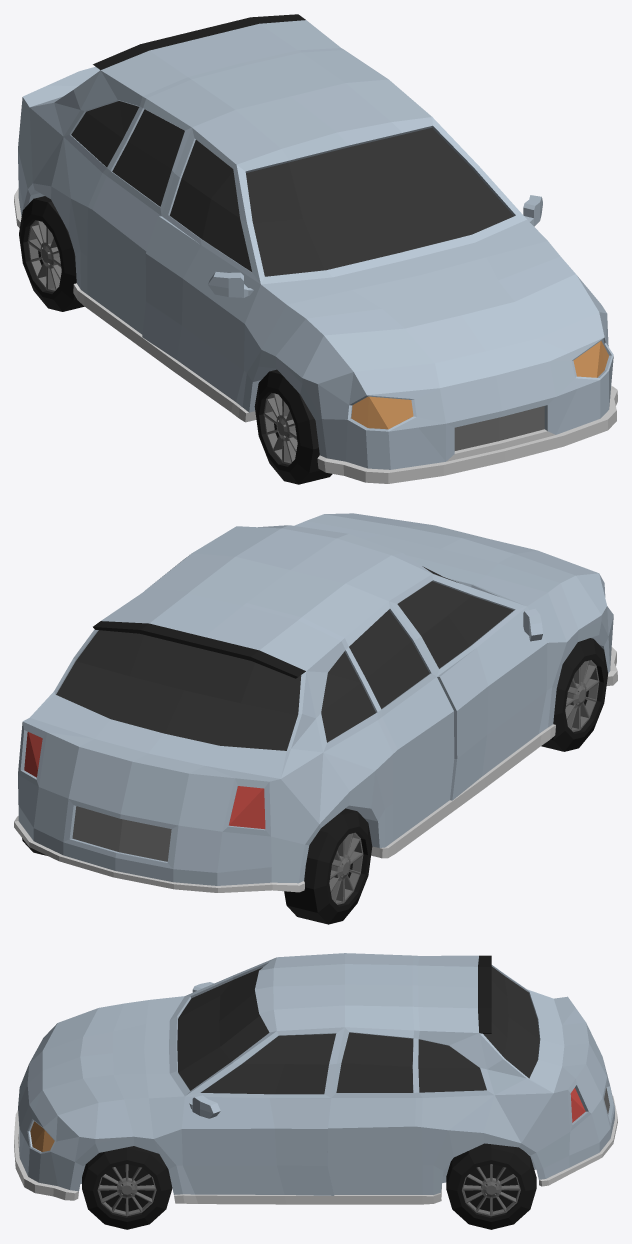
Rendered from hatch.glb.
3 views of the same model, one above another, from view 1: azimuth 30°, elevation 25°; view 2: azimuth 150°, elevation 25°; view 3: azimuth 270°, elevation 25° (orthographic). The views are drawn at different scales.
Parts seen in each view (by area): view 1: NormalCar2_Cube.002, NormalCar2_FrontRightWheel_Cylinder.016, NormalCar2_BackWheels_Cylinder.003; view 2: NormalCar2_Cube.002, NormalCar2_BackWheels_Cylinder.003, NormalCar2_FrontRightWheel_Cylinder.016; view 3: NormalCar2_Cube.002, NormalCar2_BackWheels_Cylinder.003, NormalCar2_FrontLeftWheel_Cylinder.015.
Part boxes in pixels (box(x1,y1,x2,y2)): NormalCar2_Cube.002: box(14, 14, 617, 483); NormalCar2_FrontRightWheel_Cylinder.016: box(254, 369, 332, 484); NormalCar2_BackWheels_Cylinder.003: box(19, 196, 84, 311); NormalCar2_Cube.002: box(14, 513, 617, 892); NormalCar2_BackWheels_Cylinder.003: box(22, 808, 372, 924); NormalCar2_FrontRightWheel_Cylinder.016: box(541, 638, 607, 751); NormalCar2_Cube.002: box(14, 953, 617, 1204); NormalCar2_BackWheels_Cylinder.003: box(446, 1143, 536, 1229); NormalCar2_FrontLeftWheel_Cylinder.015: box(82, 1146, 172, 1229).
Bounding box in the file's own units: 1.64 × 1.15 × 3.31.
